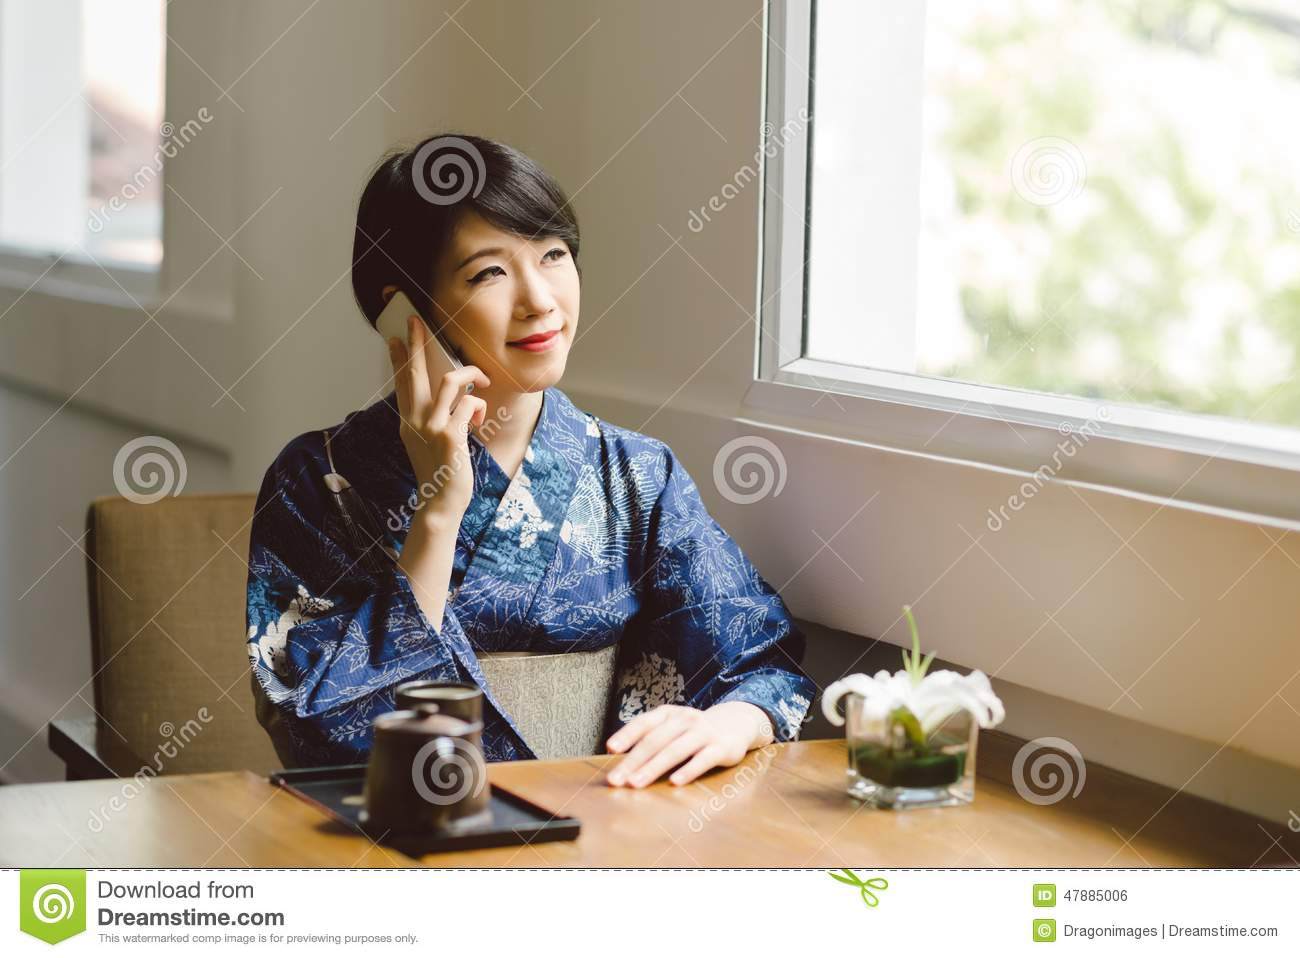phone: (382, 289, 474, 419)
talk: (378, 230, 580, 520)
